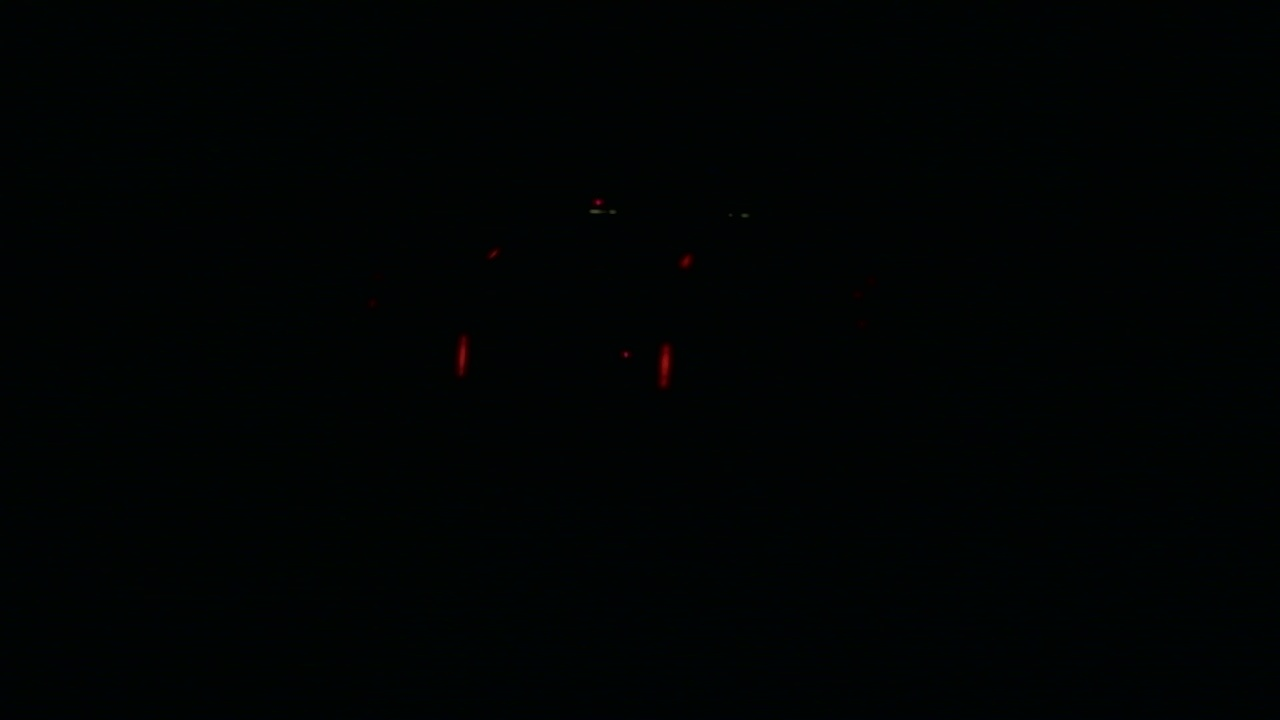lamp: (654, 337, 675, 393), (454, 335, 469, 391)
pair2: (455, 337, 674, 393)
